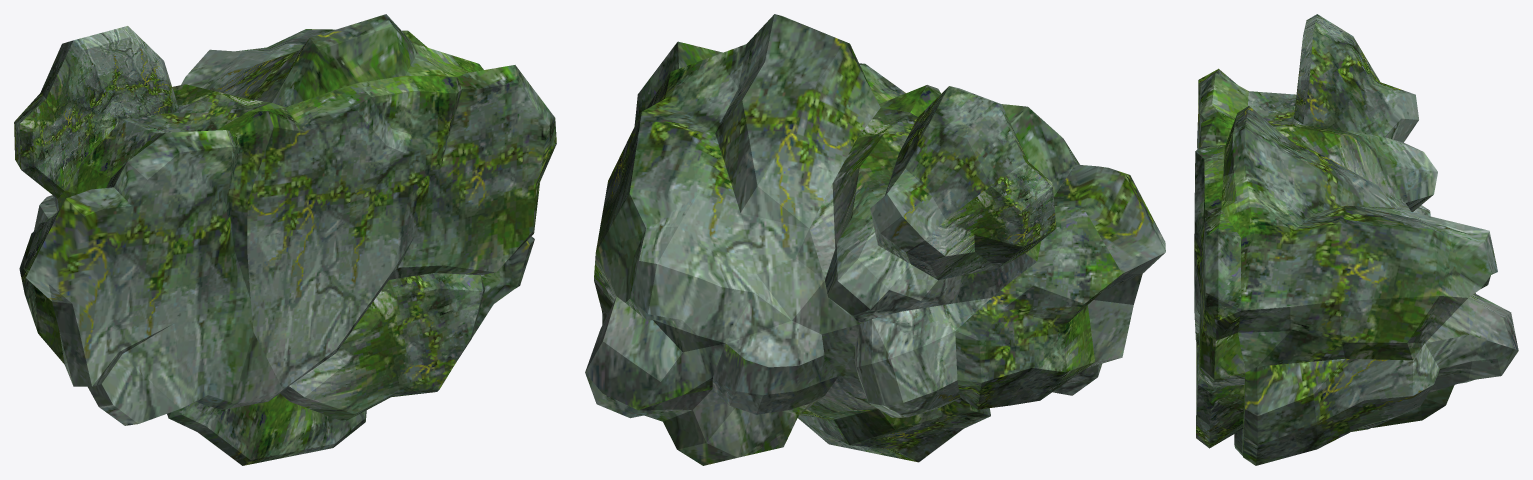
File: stone_002.FBX
The picture shows the model from 3 angles, left to right: view 1: azimuth 30°, elevation 25°; view 2: azimuth 150°, elevation 25°; view 3: azimuth 270°, elevation 25°; orthographic projection. The views are drawn at different scales.
Visible parts, largest first — view 1: stone_002; view 2: stone_002; view 3: stone_002.
Boxes of the visible parts, box(x1,y1,x2,y2) form: stone_002: box(14, 14, 556, 465); stone_002: box(585, 14, 1165, 465); stone_002: box(1194, 14, 1518, 465).
Size of the model in its own units: 0.2316 by 0.1788 by 0.1467.
Materials: 1 (1 with a texture image).
